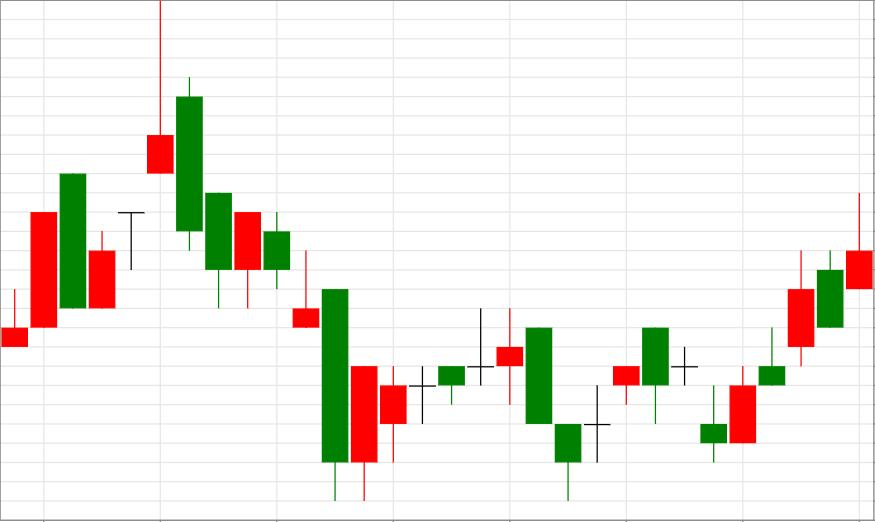shooting_star_fall: (1, 2, 173, 349)
